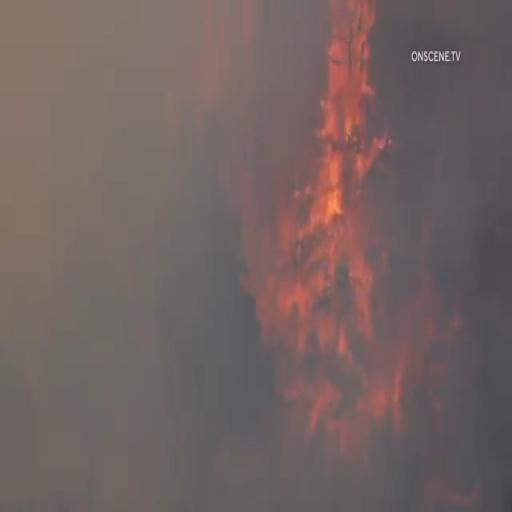fire: (305, 0, 390, 395)
